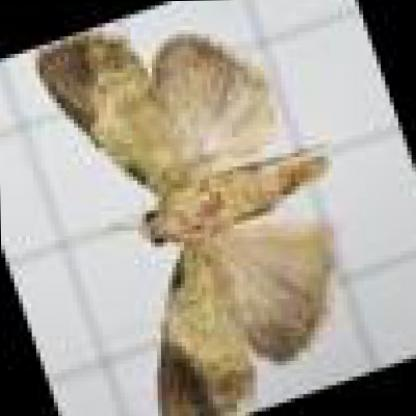Leaf Webber: (30, 32, 335, 413)
